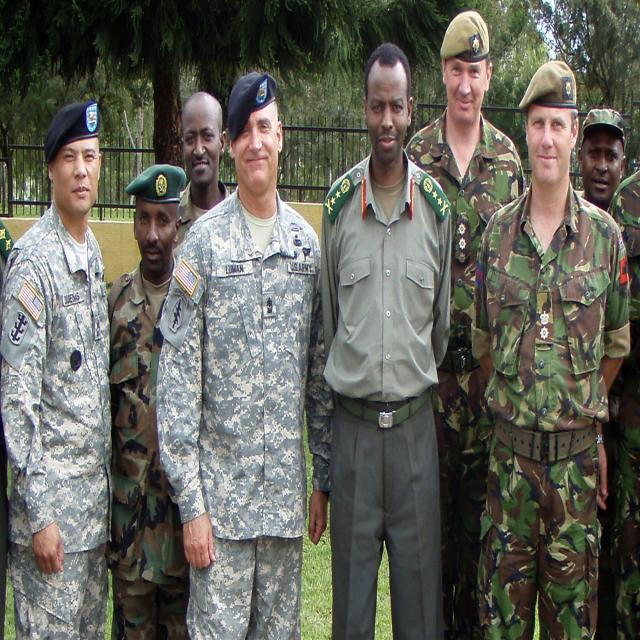body: (155, 70, 331, 639), (468, 57, 634, 640), (317, 39, 455, 639), (404, 9, 526, 640), (0, 98, 117, 640), (104, 161, 191, 640), (602, 168, 640, 639), (171, 90, 233, 266), (0, 222, 16, 640), (574, 103, 628, 214)
